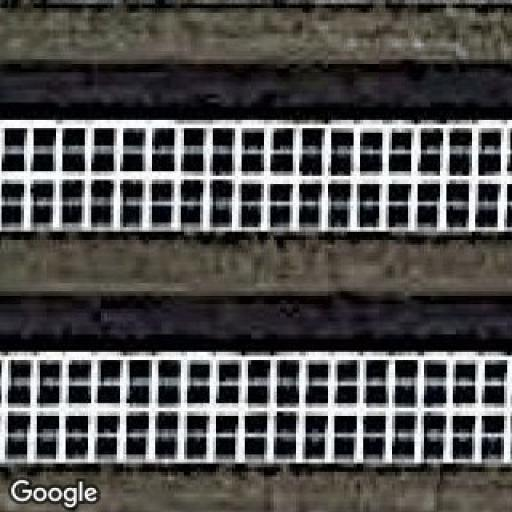solar-panel: (0, 118, 512, 236), (0, 352, 512, 466)
